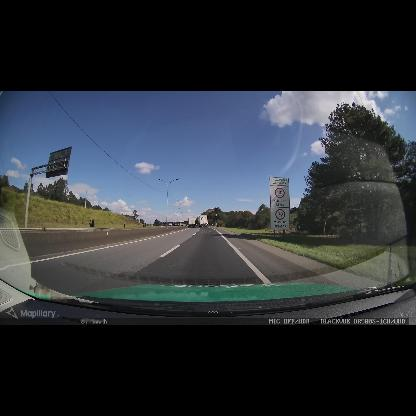I-SA: (269, 177, 289, 186)
R-19: (270, 185, 290, 229)
